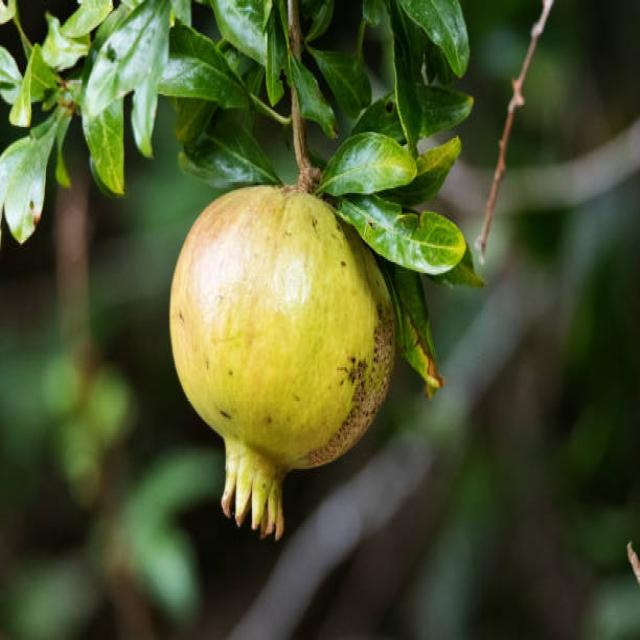Unripe: (168, 181, 394, 540)
